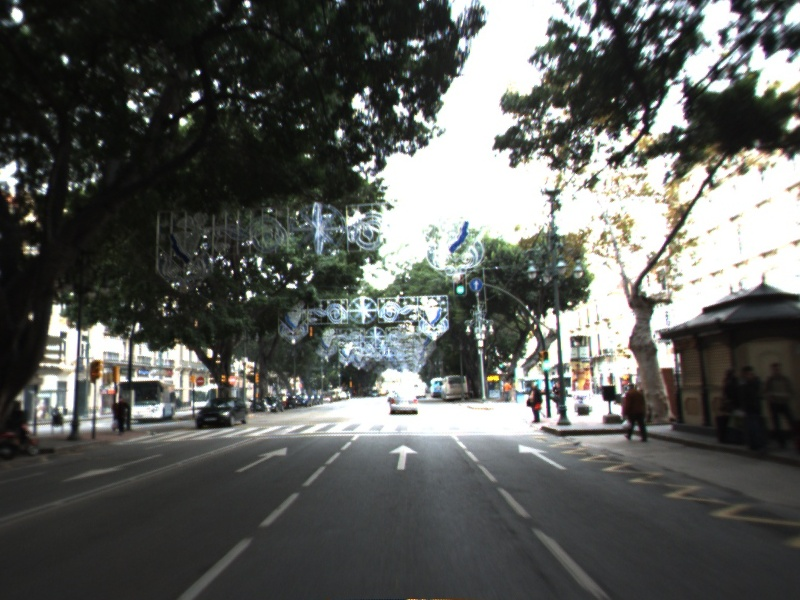STRAIGHT: (233, 445, 290, 474), (516, 442, 571, 472), (386, 443, 421, 472)
